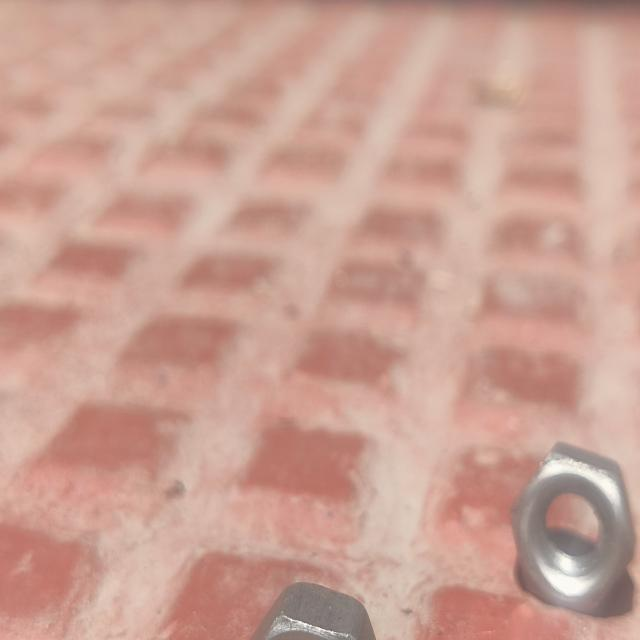disinfected nut: (510, 443, 635, 613), (251, 583, 376, 640)
